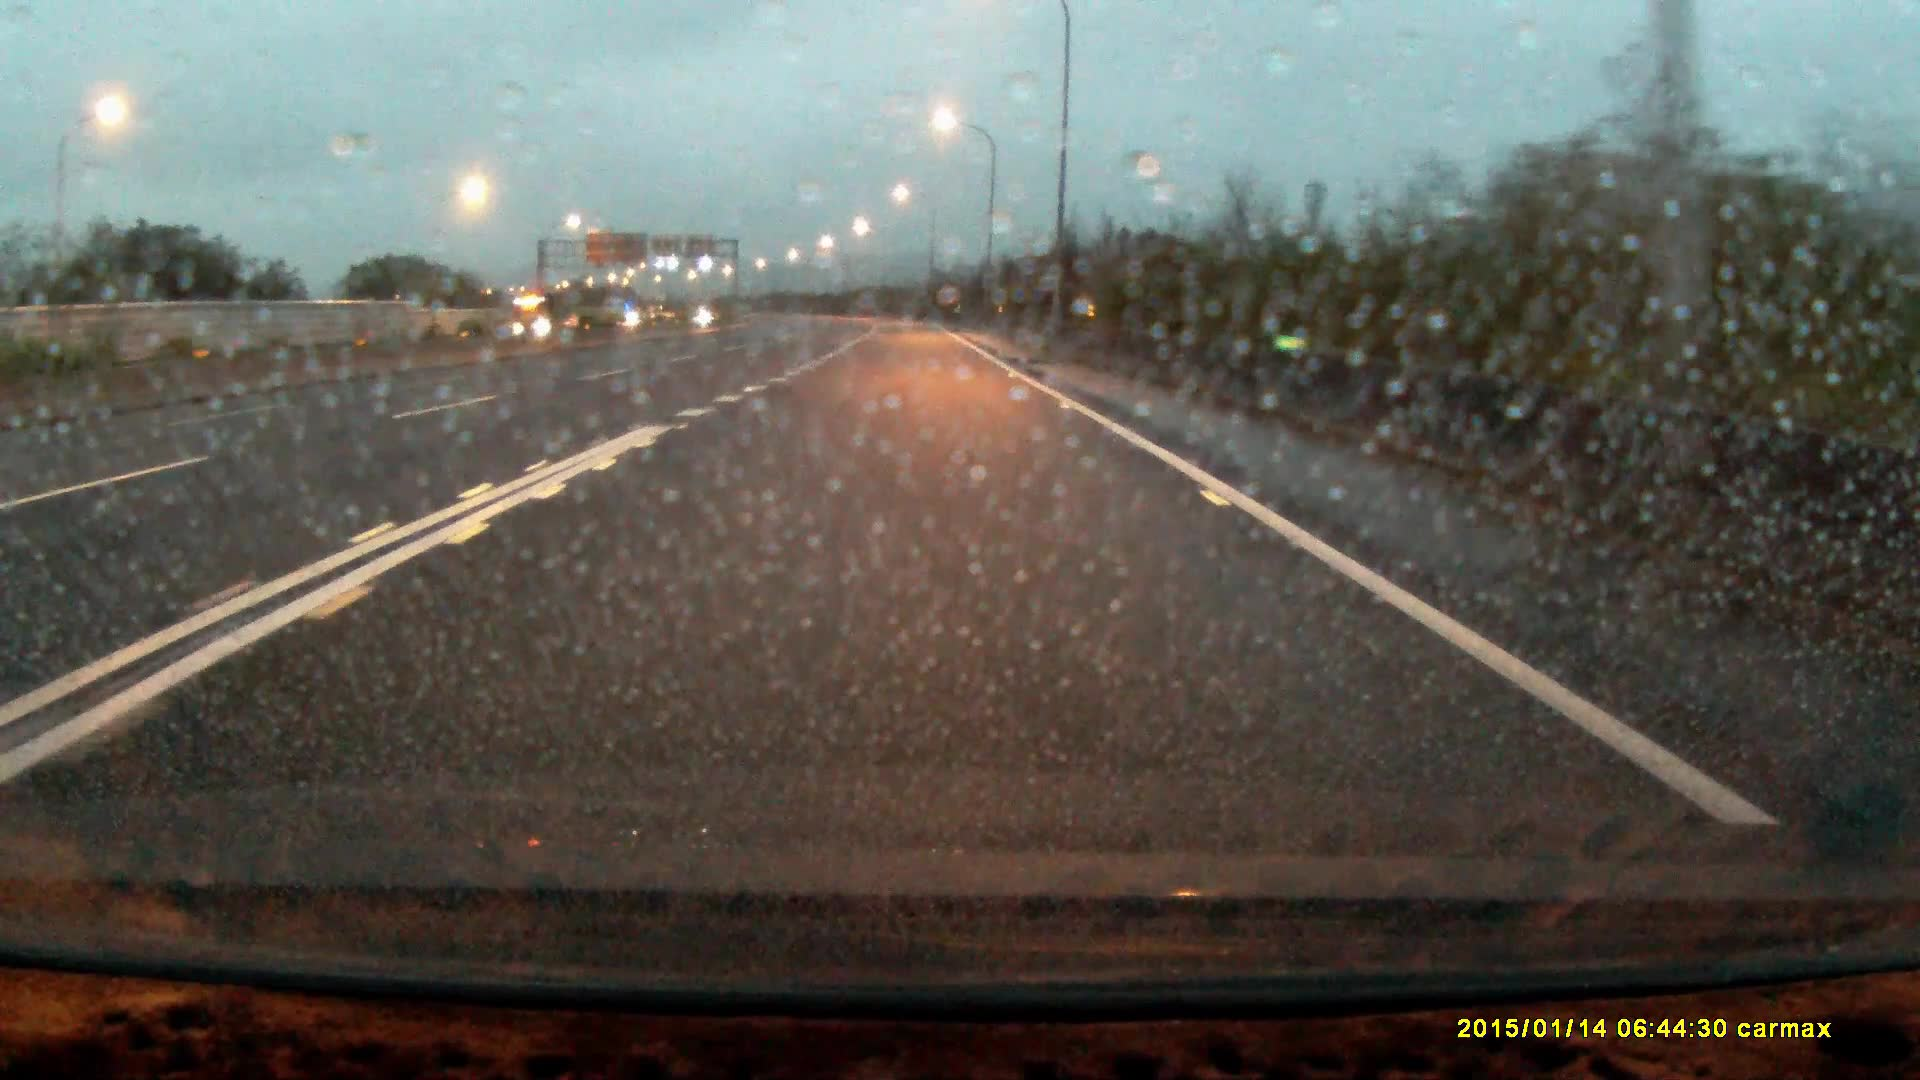vehicle: (510, 297, 579, 345)
